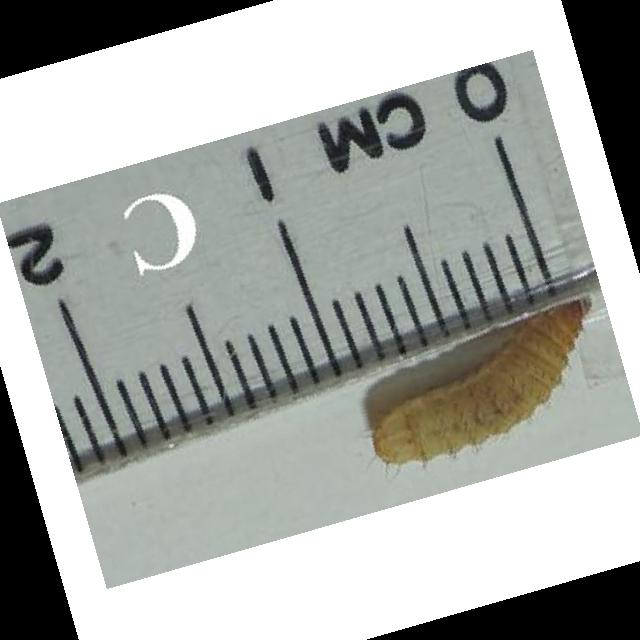Maggot: (369, 292, 603, 470)
